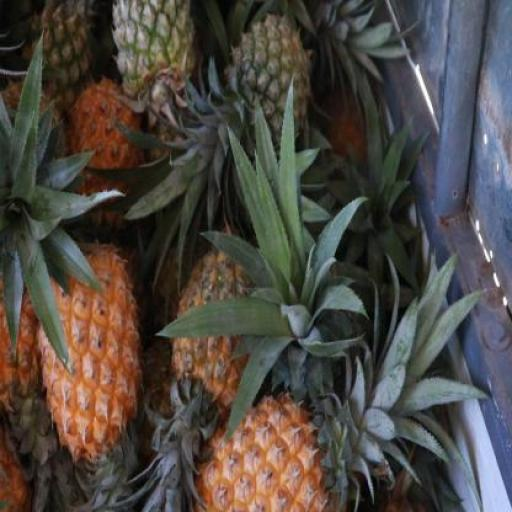Pineapple - v8 v1: (34, 235, 146, 462), (185, 396, 329, 511)
